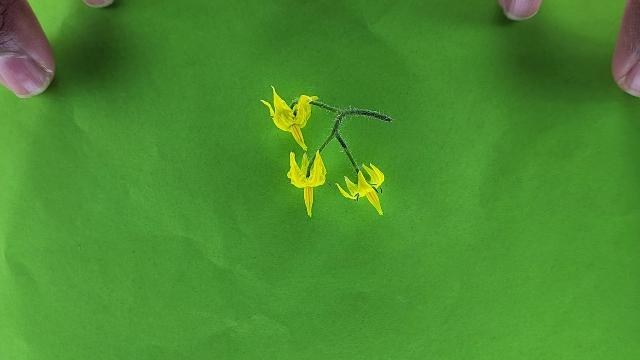Anthesis: (259, 84, 315, 153), (286, 147, 329, 217), (336, 164, 386, 215)
